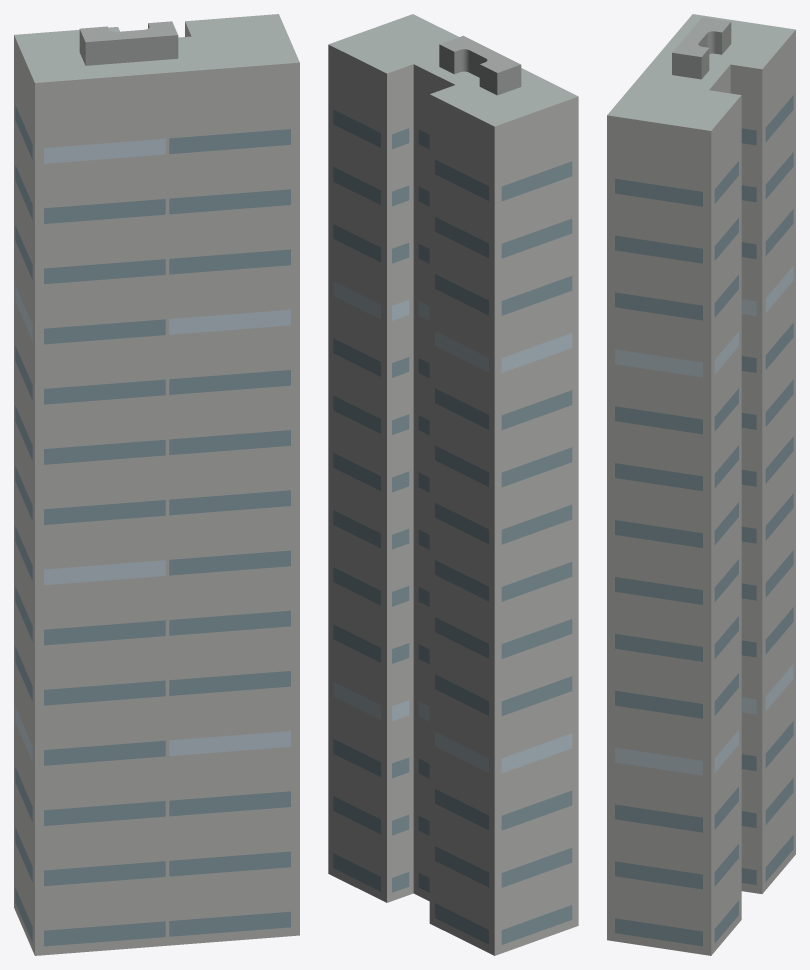
The model's file is fallback-dh-honor-hills-311.glb.
The picture shows the model from 3 angles, left to right: view 1: azimuth 30°, elevation 25°; view 2: azimuth 150°, elevation 25°; view 3: azimuth 270°, elevation 25°; orthographic projection. The views are drawn at different scales.
Visible parts, largest first — view 1: fallback-dh-honor-hills-311; view 2: fallback-dh-honor-hills-311; view 3: fallback-dh-honor-hills-311.
Part boxes in pixels (x1=…): fallback-dh-honor-hills-311: x1=14, y1=14, x2=299, y2=955; fallback-dh-honor-hills-311: x1=328, y1=14, x2=578, y2=955; fallback-dh-honor-hills-311: x1=607, y1=14, x2=795, y2=955.
Size of the model in its own units: 26.96 by 91 by 18.39.
